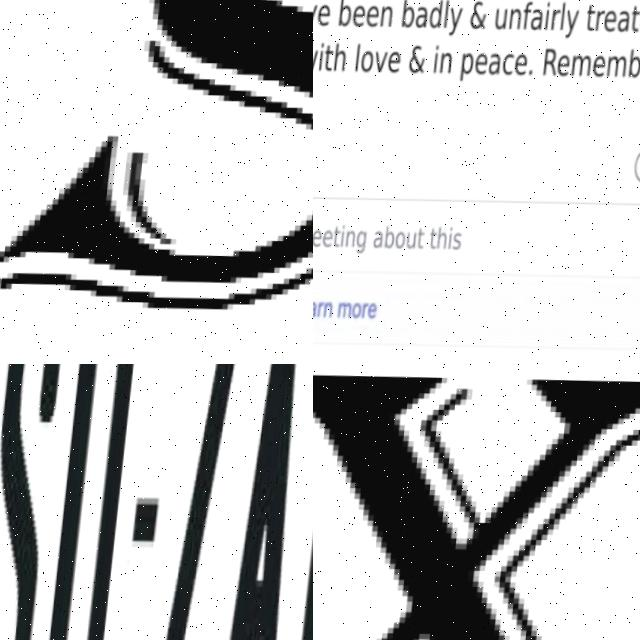A: (218, 364, 313, 640)
D: (39, 364, 150, 640)
S: (0, 0, 313, 322), (0, 364, 74, 640)
X: (313, 364, 640, 640)
Z: (149, 364, 251, 640)
